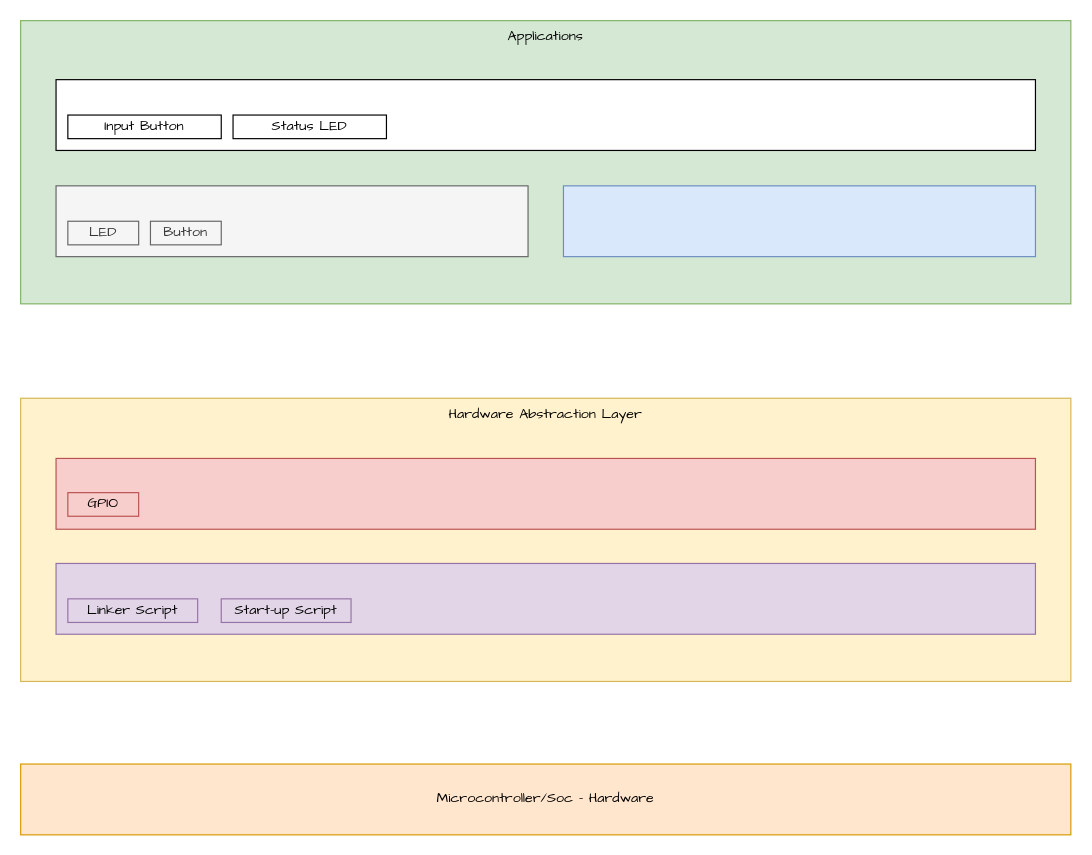
Some shapes in this 1092 by 855 pixel diagram are drawn without their labels. Each missing label, with the box of its shape:
Board: (55, 562, 1035, 634)
Commonly Used Application Library: (55, 185, 528, 257)
Drivers: (55, 457, 1035, 529)
User Application: (55, 78, 1035, 150)
Utilities: (562, 185, 1035, 257)
